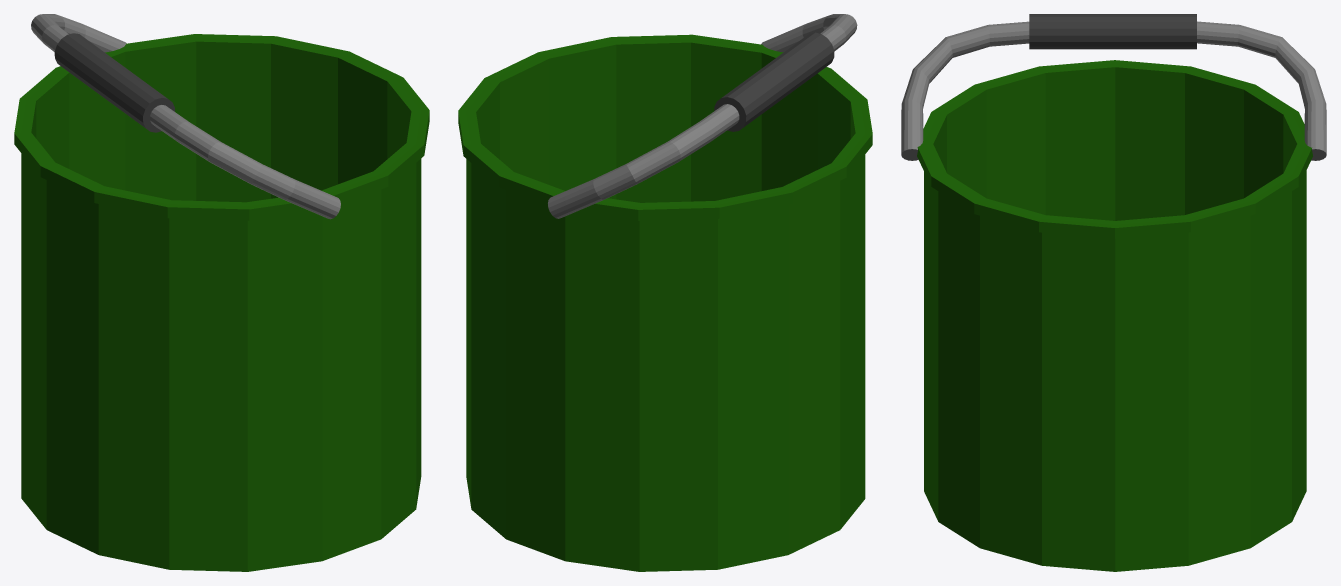
File: Bucket.fbx
3 renders of one model, left to right at view 1: azimuth 30°, elevation 25°; view 2: azimuth 150°, elevation 25°; view 3: azimuth 270°, elevation 25°, orthographic. The views are drawn at different scales.
Visible parts, largest first — view 1: Cylinder.007; view 2: Cylinder.007; view 3: Cylinder.007.
Boxes of the visible parts, box(x1,y1,x2,y2) form: Cylinder.007: box(14, 14, 429, 571); Cylinder.007: box(458, 14, 872, 571); Cylinder.007: box(901, 14, 1326, 571).
Size of the model in its own units: 143 by 168 by 153.
